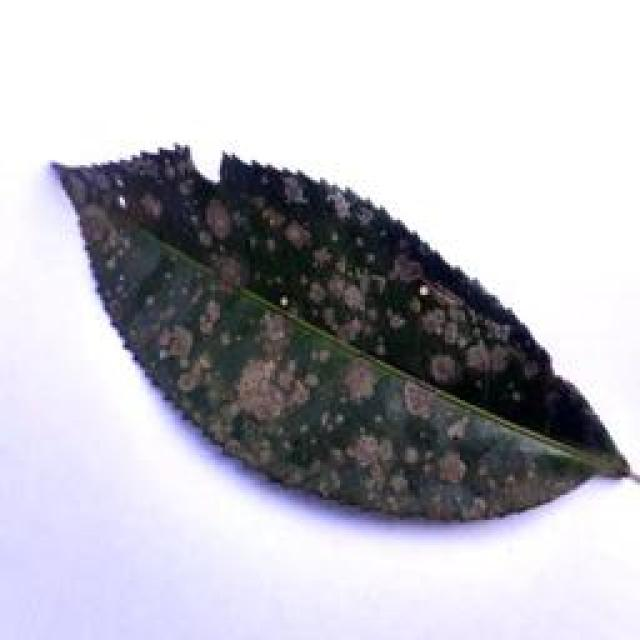Algal Leaf Spot: (45, 131, 598, 510)
